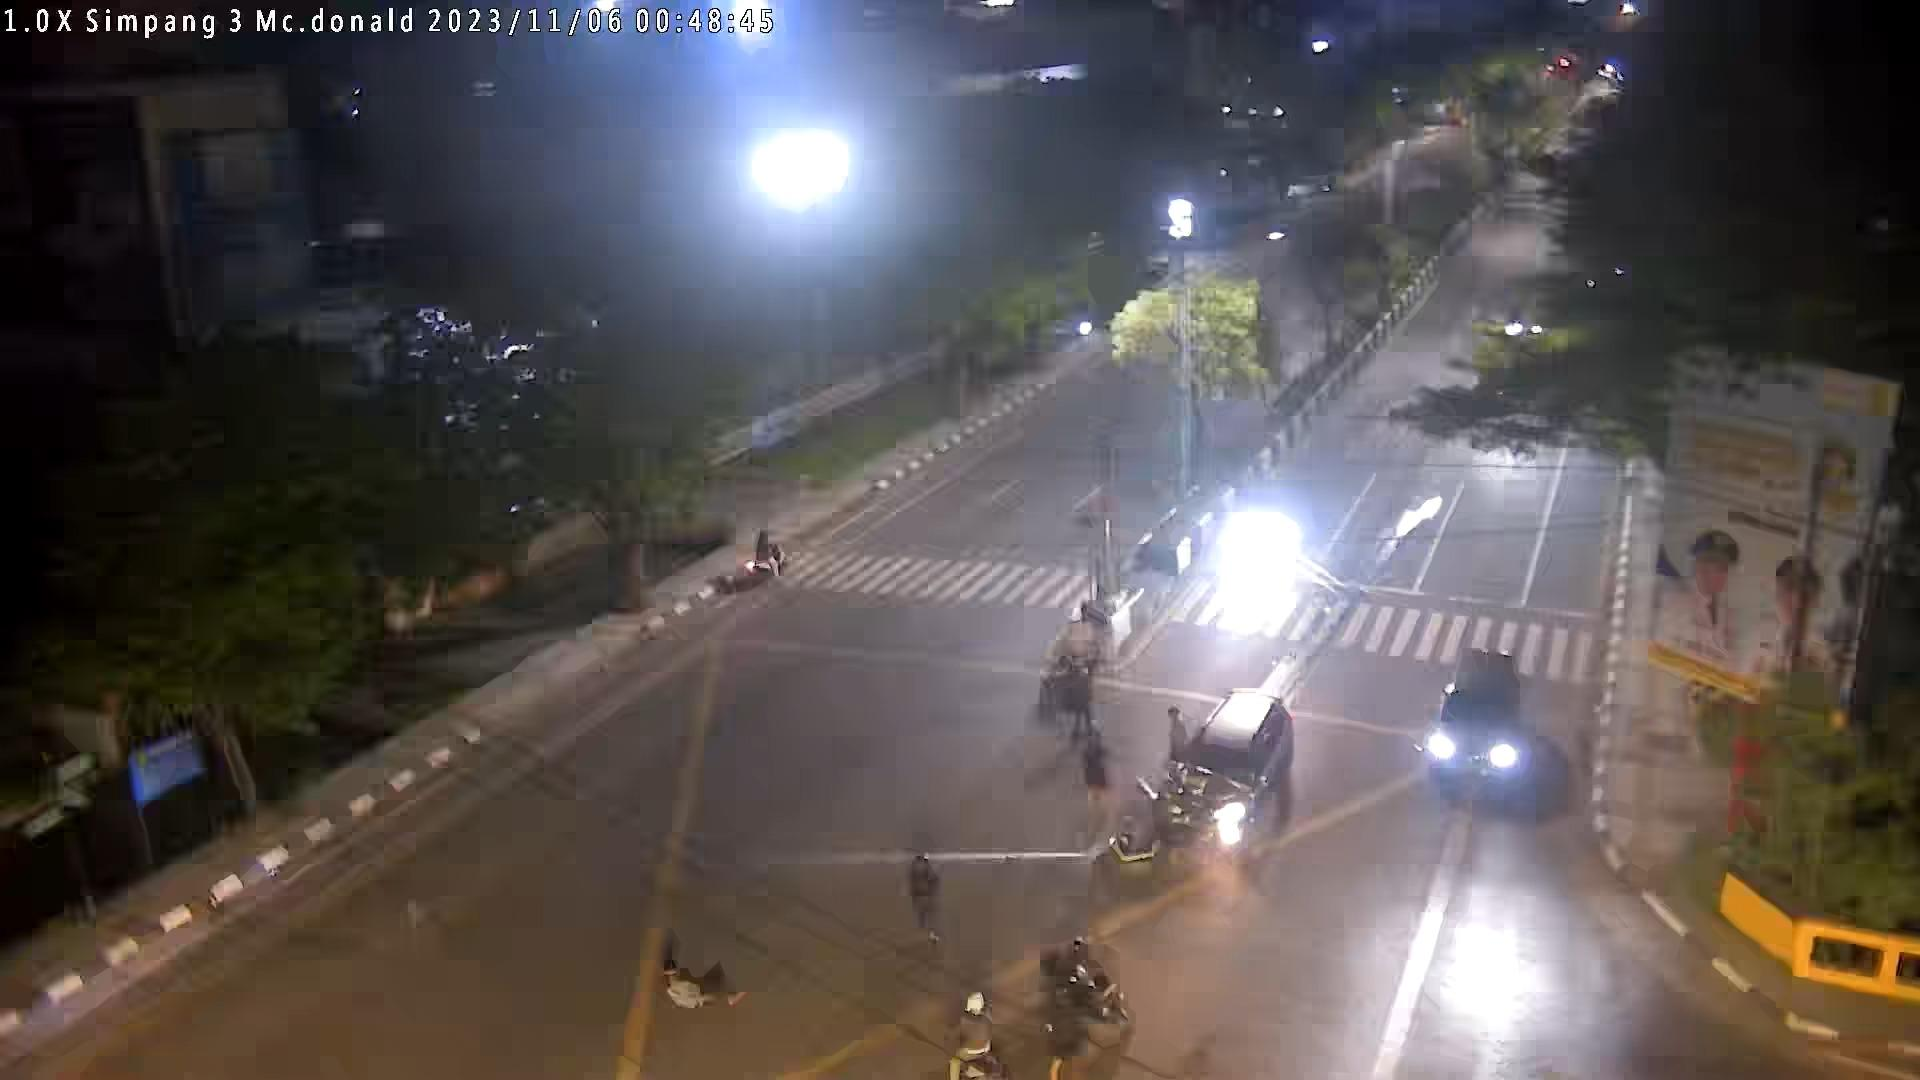accident: (662, 959, 745, 1011)
